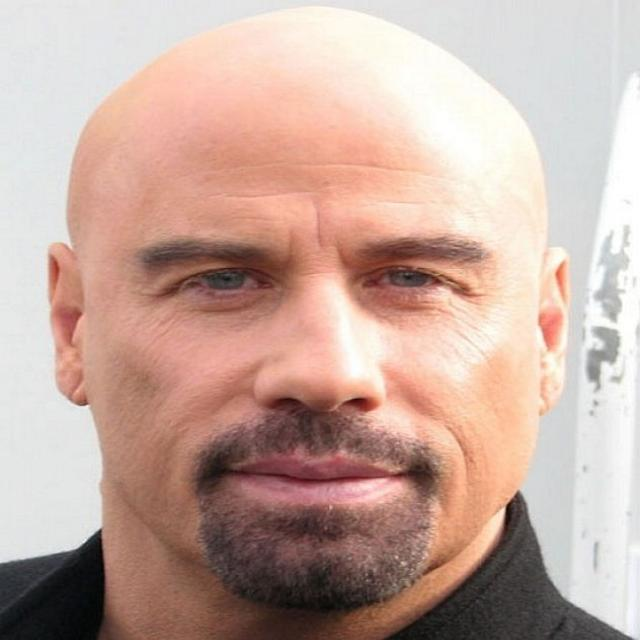no_helmet: (21, 0, 598, 383)
